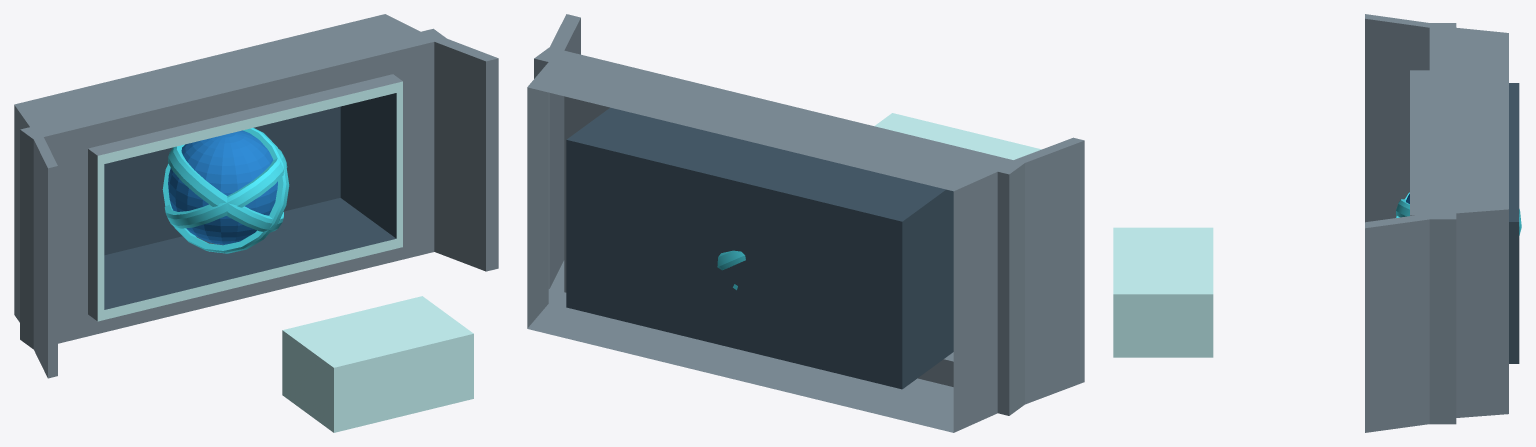
File: news_room_model.fbx
3 views of the same model, side by side, from view 1: azimuth 30°, elevation 25°; view 2: azimuth 150°, elevation 25°; view 3: azimuth 270°, elevation 25° (orthographic). The views are drawn at different scales.
Visible parts, largest first — view 1: polySurface1, polySurface3, polySurface2, polySurface4, polySurface5, polySurface6; view 2: polySurface1, polySurface3; view 3: polySurface1, polySurface3.
Part boxes in pixels (x1,y1,x2,y2): polySurface1: (14,14,498,378); polySurface3: (282,296,473,432); polySurface2: (168,130,277,244); polySurface4: (164,149,287,228); polySurface5: (162,128,289,253); polySurface6: (168,144,283,232); polySurface1: (527,14,1084,432); polySurface3: (874,113,1041,159); polySurface1: (1365,14,1519,432); polySurface3: (1113,227,1213,357).
Size of the model in its own units: 19.06 by 8.49 by 15.36.
1 material, 1 textured.
